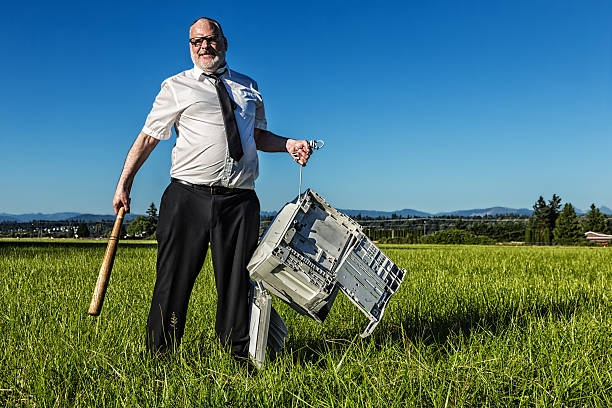bita: (86, 192, 127, 314)
